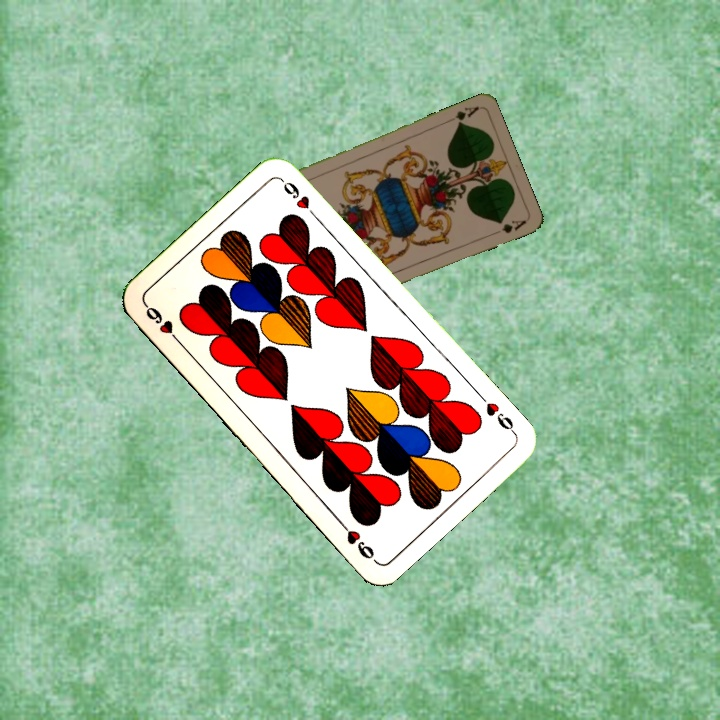GA: (443, 102, 482, 127)
H9: (141, 300, 185, 348), (474, 389, 518, 437)
